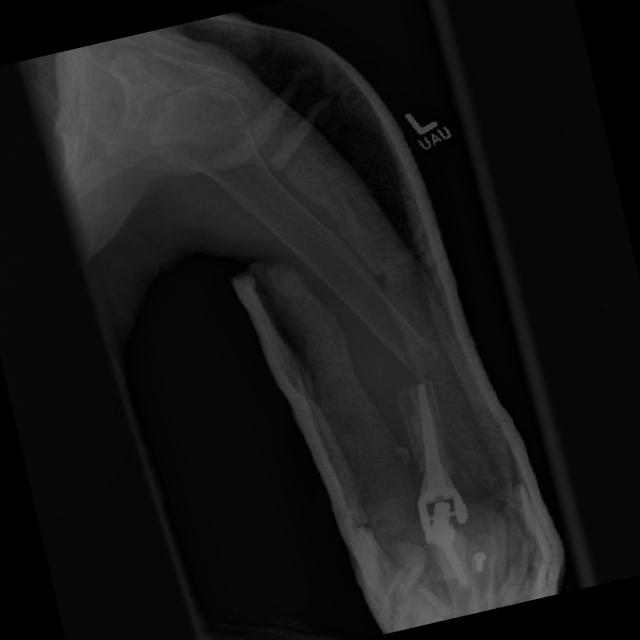humerus fracture: (374, 324, 487, 463)
